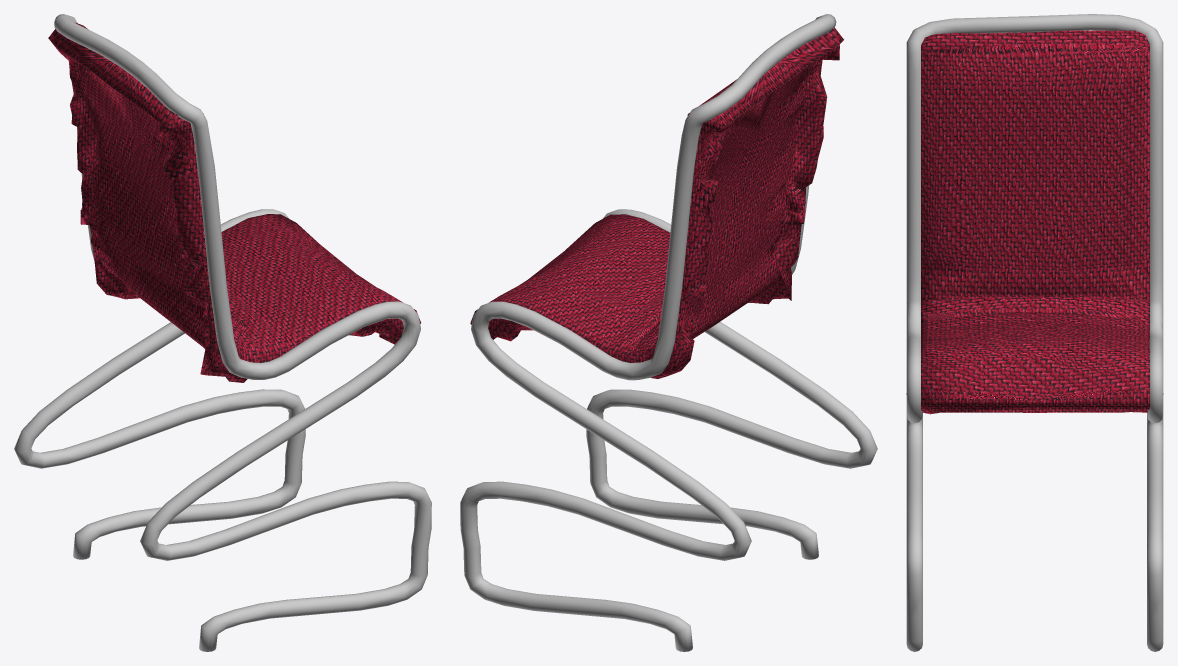
The model's file is Spring_Chair.fbx.
3 views of the same model, side by side, from view 1: azimuth 30°, elevation 25°; view 2: azimuth 150°, elevation 25°; view 3: azimuth 270°, elevation 25° (orthographic). The views are drawn at different scales.
Parts seen in each view (by area): view 1: Spring_Chair; view 2: Spring_Chair; view 3: Spring_Chair.
Part boxes in pixels (x1,y1,x2,y2): Spring_Chair: (14, 14, 431, 651); Spring_Chair: (460, 14, 877, 651); Spring_Chair: (906, 14, 1163, 651).
Bounding box in the file's own units: 76.45 × 141 × 61.61.
2 materials, 1 textured.
